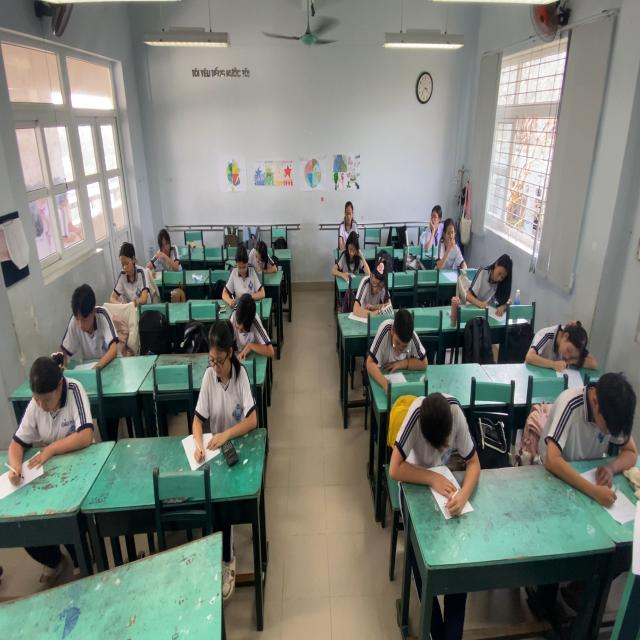cheating: (417, 195, 448, 250)
not_cheating: (540, 353, 636, 528), (381, 378, 490, 528), (7, 345, 93, 476), (196, 313, 256, 465), (53, 275, 123, 381), (360, 296, 430, 402), (519, 300, 600, 385), (108, 233, 157, 328), (226, 286, 272, 382), (462, 243, 517, 323), (221, 237, 270, 314), (350, 244, 395, 326), (148, 212, 185, 288), (240, 225, 282, 288), (431, 212, 470, 276), (331, 228, 369, 286), (328, 192, 363, 241)
